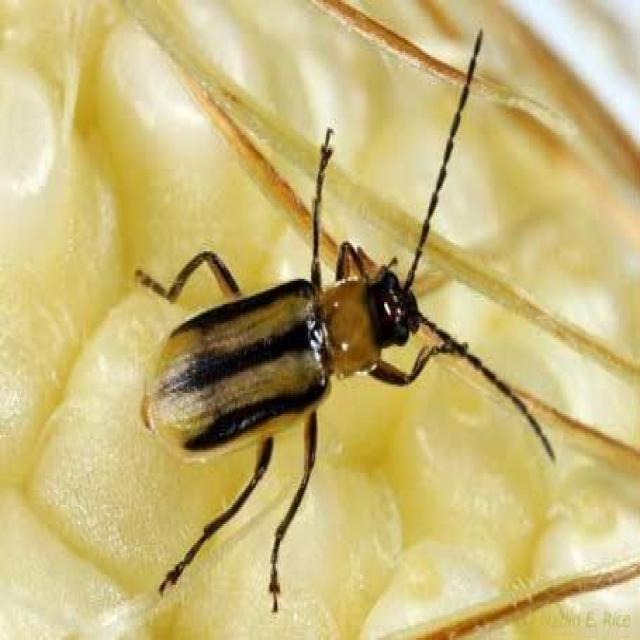trips: (140, 28, 552, 586)
